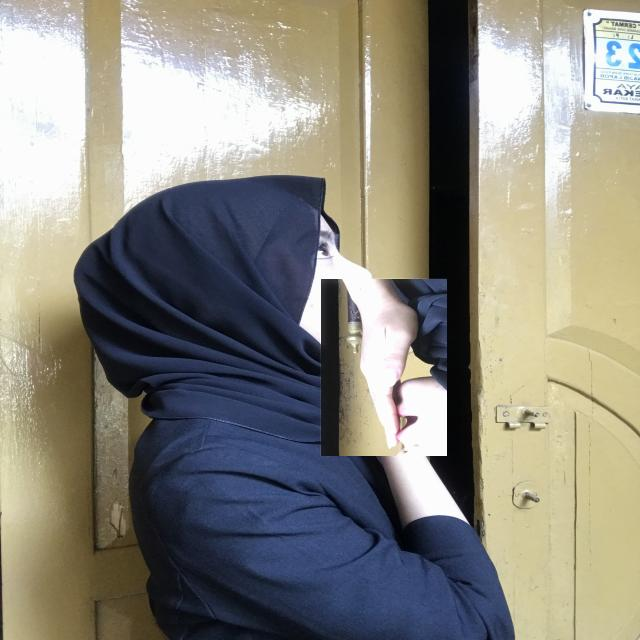ngantuk: (320, 278, 447, 456)
